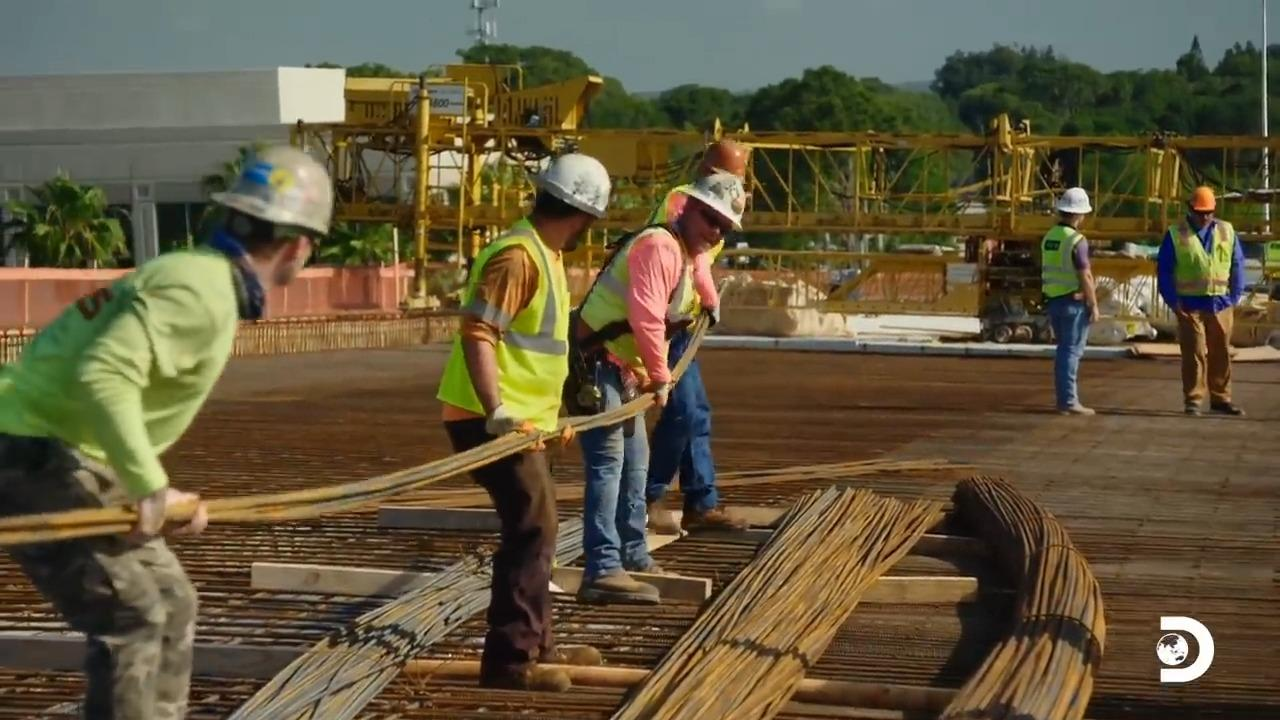Gloves: (137, 483, 202, 538), (495, 405, 541, 446), (640, 367, 666, 401), (704, 300, 719, 322)
Helmet: (210, 144, 334, 237), (529, 151, 611, 219), (681, 171, 746, 231), (697, 139, 749, 180), (1055, 186, 1092, 214), (1189, 186, 1216, 212)
Person: (0, 143, 334, 719), (434, 151, 612, 692), (567, 166, 746, 606), (643, 139, 751, 533), (1156, 185, 1247, 416), (1040, 186, 1100, 415)
Safety Boot: (477, 662, 553, 705), (590, 572, 656, 604), (675, 508, 742, 535), (550, 644, 604, 670), (1210, 397, 1241, 420), (1061, 398, 1088, 419), (1180, 398, 1204, 416)
Safety Vest: (31, 310, 213, 443), (460, 246, 557, 402), (595, 253, 682, 354), (1168, 224, 1234, 300), (1040, 234, 1083, 294)
bare-arms: (1083, 302, 1102, 322)
